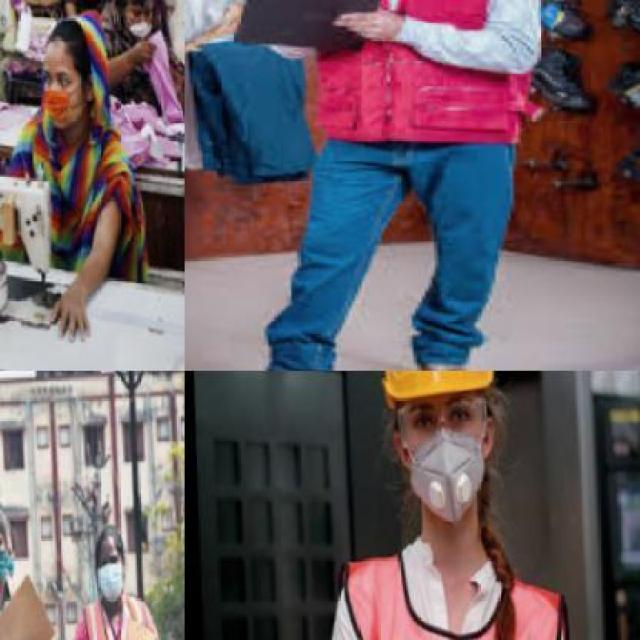Vest: (263, 0, 545, 163), (327, 543, 576, 639), (62, 600, 165, 638)
